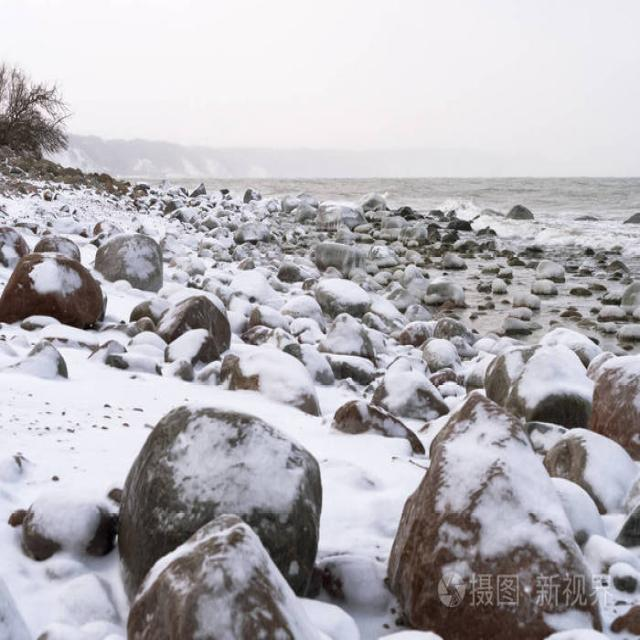reef: (420, 175, 640, 384)
